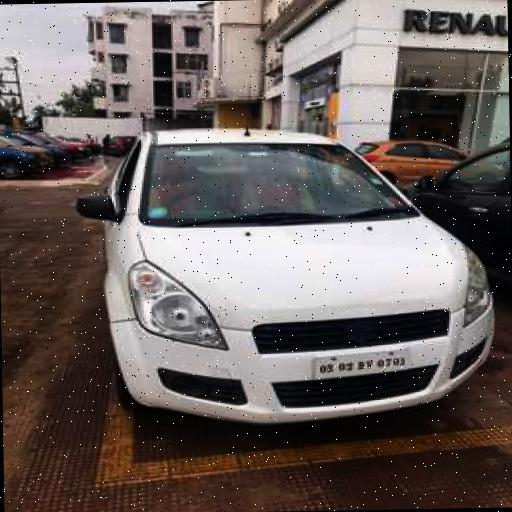license_plate`: (312, 346, 407, 378)
